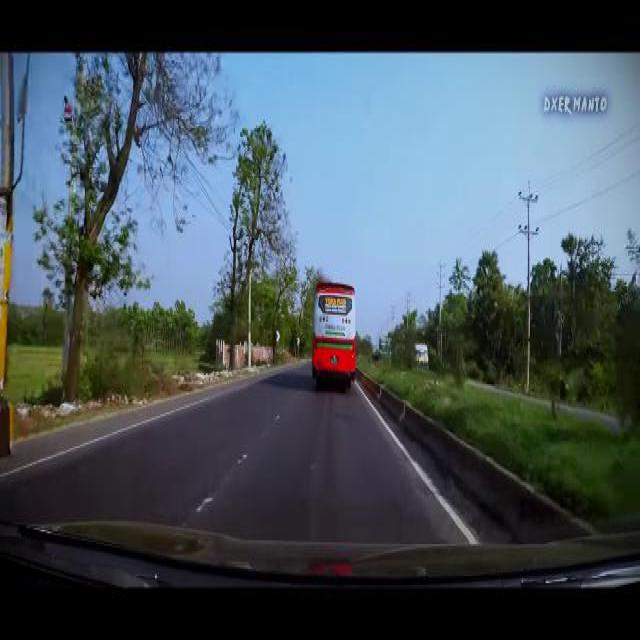bus: (310, 279, 356, 379), (414, 342, 428, 366)
